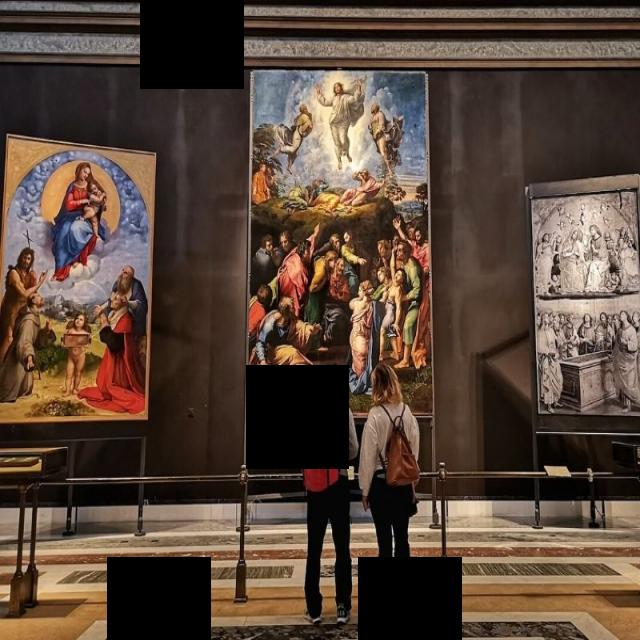Tablo: (246, 68, 435, 419), (0, 135, 155, 423), (529, 188, 640, 418)
